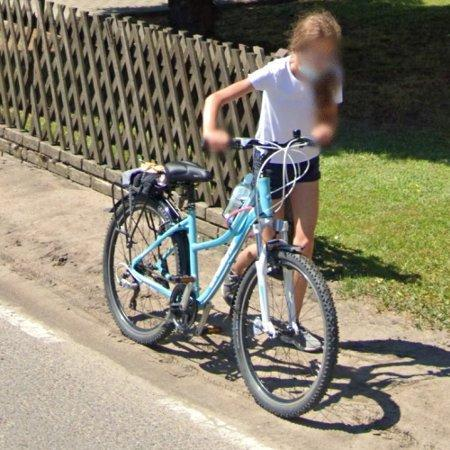bicycles: (104, 136, 338, 419)
